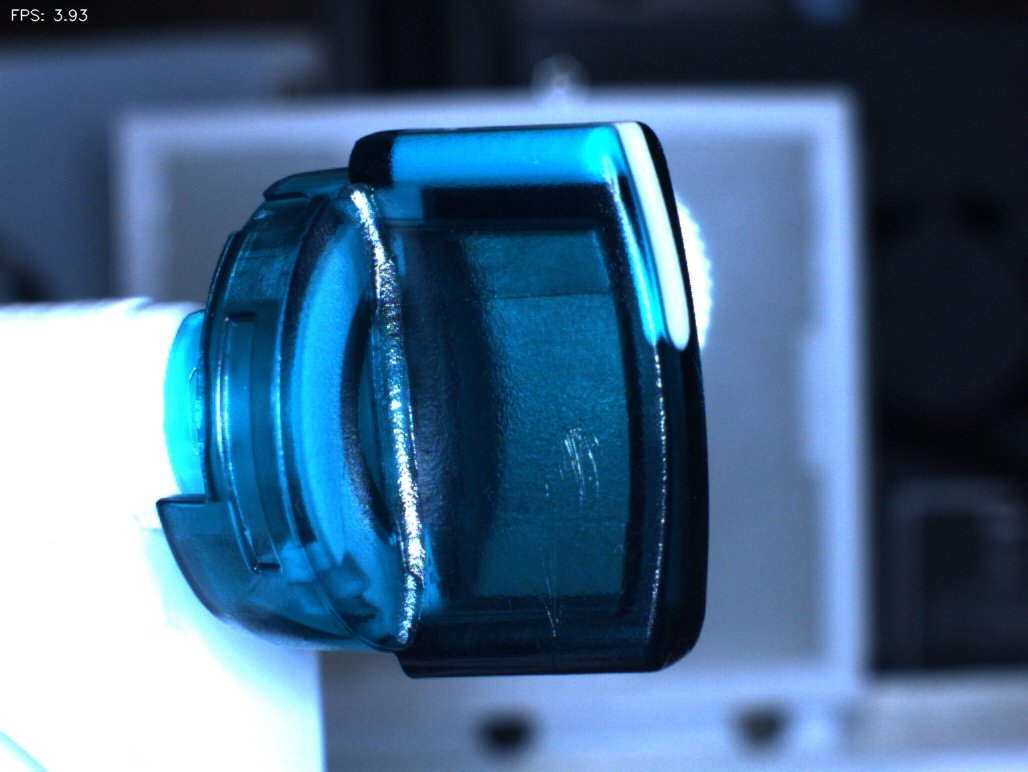Givrage: (538, 409, 614, 519)
